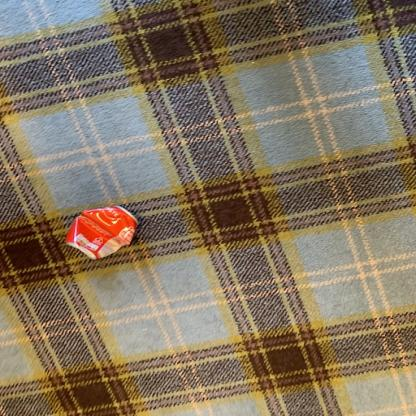trash: (60, 203, 142, 262)
